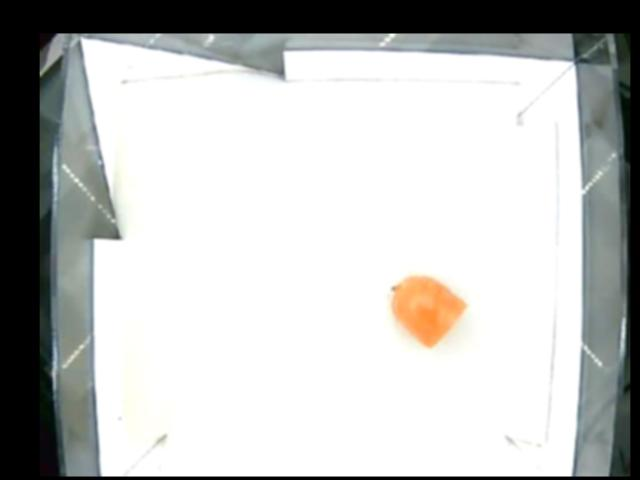Carrot: (392, 276, 467, 345)
